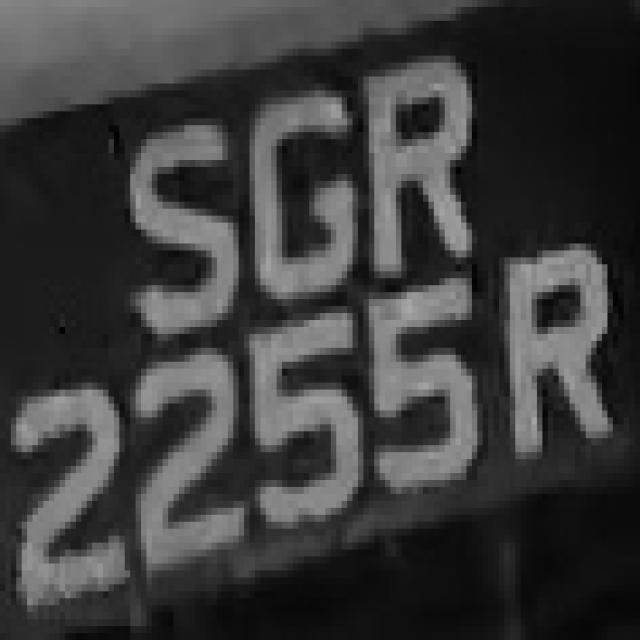2: (125, 348, 266, 591), (16, 383, 125, 619)
5: (233, 306, 358, 536), (363, 285, 478, 515)
G: (233, 77, 358, 313)
R: (477, 237, 624, 452), (342, 56, 477, 278)
S: (109, 104, 238, 341)
